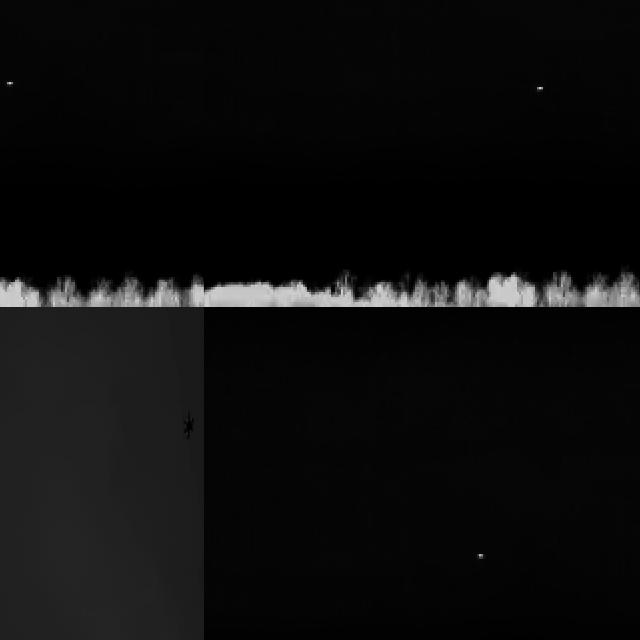1: (530, 77, 558, 107), (1, 73, 29, 101), (473, 546, 497, 572)
drone: (177, 408, 200, 446)
